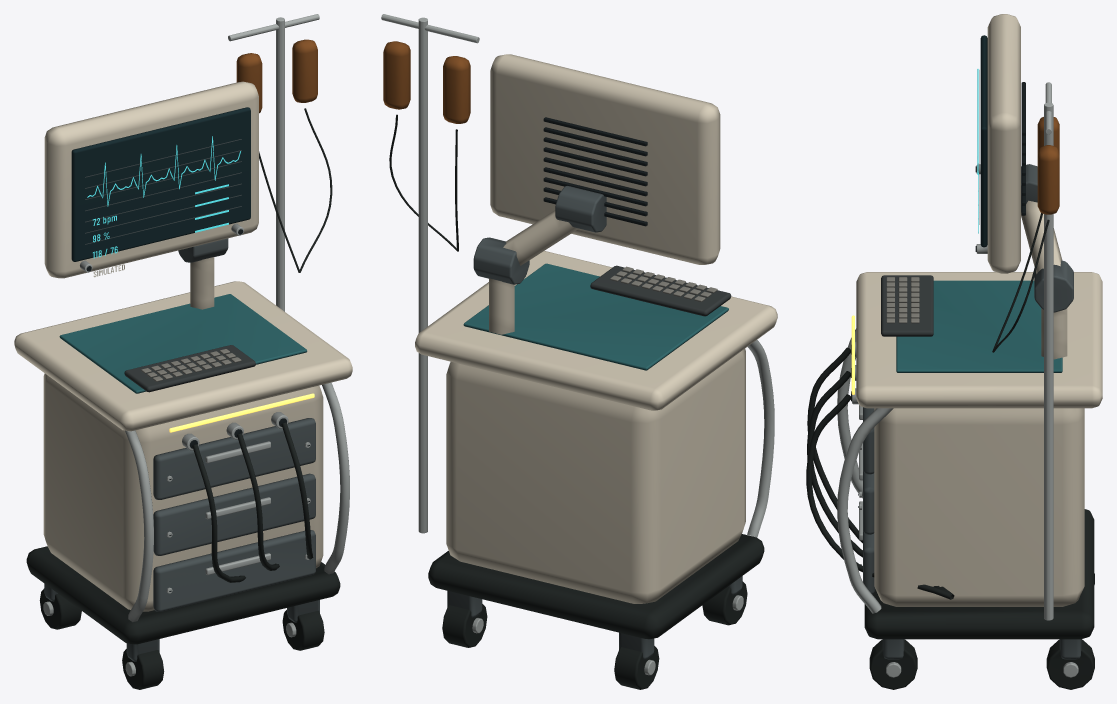
File: equipment-low.glb
3 views of the same model, side by side, from view 1: azimuth 30°, elevation 25°; view 2: azimuth 150°, elevation 25°; view 3: azimuth 270°, elevation 25° (orthographic). The views are drawn at different scales.
Visible parts, largest first — view 1: equipment__Ceramic medical shell, equipment__Recessed titanium panels, equipment__Dark optical glass, equipment__Restraint webbing, equipment__Medical upholstery, equipment__Satin aluminium, equipment__Amber supply vial, equipment__Coated pressure frame, equipment__Instrument display ink, equipment__Graphite enamel, equipment__Warm service practical; view 2: equipment__Ceramic medical shell, equipment__Restraint webbing, equipment__Medical upholstery, equipment__Satin aluminium, equipment__Recessed titanium panels, equipment__Recess and gasket, equipment__Amber supply vial, equipment__Coated pressure frame, equipment__Graphite enamel; view 3: equipment__Ceramic medical shell, equipment__Restraint webbing, equipment__Medical upholstery, equipment__Satin aluminium, equipment__Recessed titanium panels, equipment__Coated pressure frame, equipment__Amber supply vial, equipment__Dark optical glass, equipment__Graphite enamel, equipment__Recess and gasket.
Part boxes in pixels (left/top/right/bottom): equipment__Ceramic medical shell: left=14, top=81, right=352, bottom=611; equipment__Recessed titanium panels: left=44, top=139, right=319, bottom=661; equipment__Dark optical glass: left=71, top=107, right=250, bottom=261; equipment__Restraint webbing: left=26, top=108, right=340, bottom=689; equipment__Medical upholstery: left=59, top=294, right=307, bottom=393; equipment__Satin aluminium: left=43, top=14, right=349, bottom=676; equipment__Amber supply vial: left=236, top=39, right=317, bottom=113; equipment__Coated pressure frame: left=124, top=345, right=255, bottom=392; equipment__Instrument display ink: left=87, top=136, right=240, bottom=258; equipment__Graphite enamel: left=141, top=349, right=241, bottom=381; equipment__Warm service practical: left=169, top=393, right=314, bottom=432; equipment__Ceramic medical shell: left=415, top=54, right=777, bottom=603; equipment__Restraint webbing: left=389, top=114, right=764, bottom=689; equipment__Medical upholstery: left=463, top=263, right=728, bottom=370; equipment__Satin aluminium: left=381, top=14, right=774, bottom=675; equipment__Recessed titanium panels: left=447, top=186, right=742, bottom=659; equipment__Recess and gasket: left=543, top=117, right=647, bottom=226; equipment__Amber supply vial: left=383, top=41, right=470, bottom=123; equipment__Coated pressure frame: left=590, top=265, right=731, bottom=316; equipment__Graphite enamel: left=610, top=266, right=717, bottom=301; equipment__Ceramic medical shell: left=856, top=14, right=1102, bottom=606; equipment__Restraint webbing: left=806, top=213, right=1094, bottom=689; equipment__Medical upholstery: left=896, top=280, right=1062, bottom=372; equipment__Satin aluminium: left=837, top=82, right=1078, bottom=677; equipment__Recessed titanium panels: left=863, top=70, right=1081, bottom=659; equipment__Coated pressure frame: left=881, top=275, right=933, bottom=336; equipment__Amber supply vial: left=1037, top=117, right=1059, bottom=214; equipment__Dark optical glass: left=980, top=35, right=987, bottom=247; equipment__Graphite enamel: left=886, top=277, right=919, bottom=323; equipment__Recess and gasket: left=851, top=82, right=1025, bottom=507.
Size of the model in its own units: 1.32 by 2.42 by 1.07.
